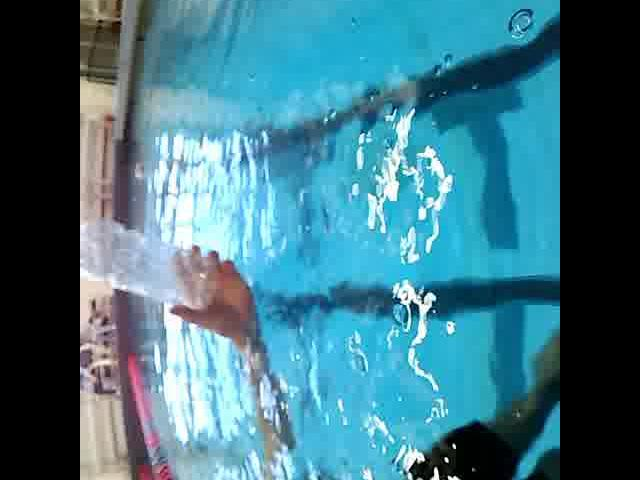Bottle: (80, 211, 231, 319)
